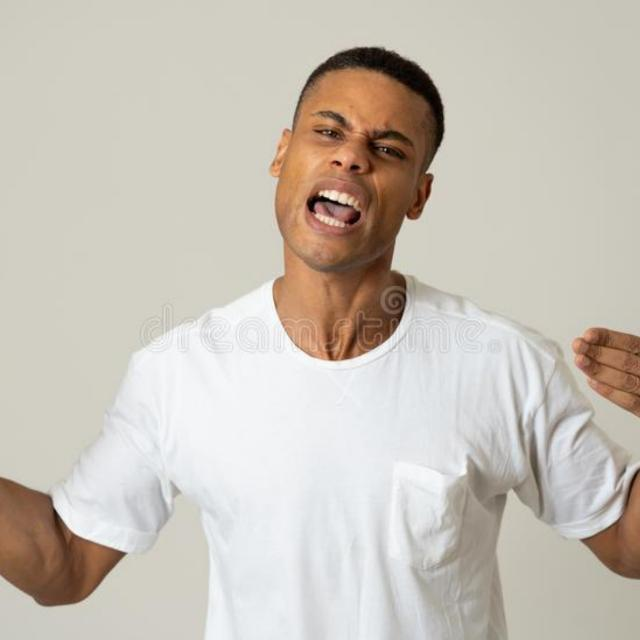Angry: (273, 71, 477, 355)
